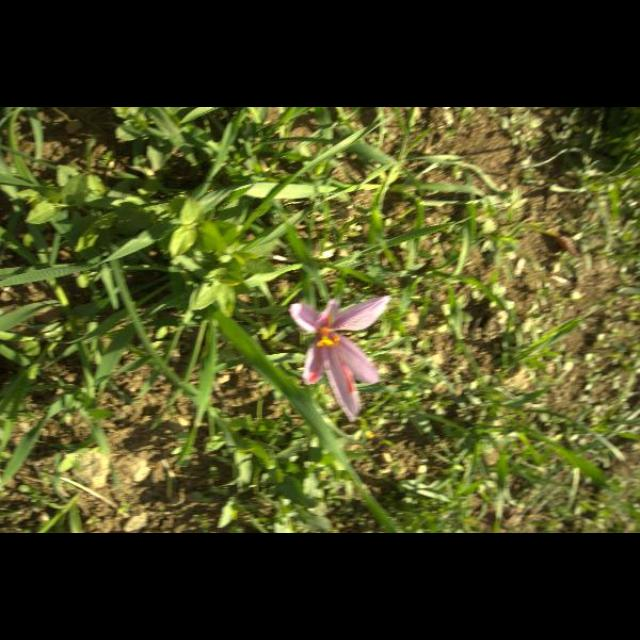flower: (291, 296, 394, 422)
